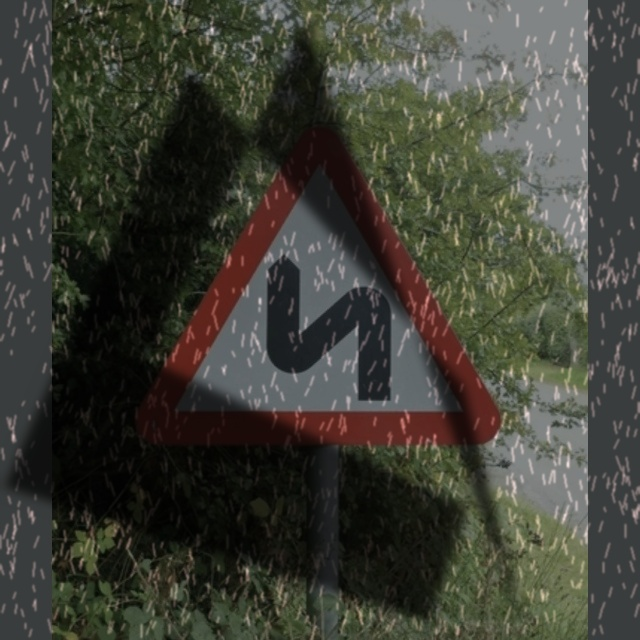Left_Reverse_Bend: (136, 127, 501, 444)
